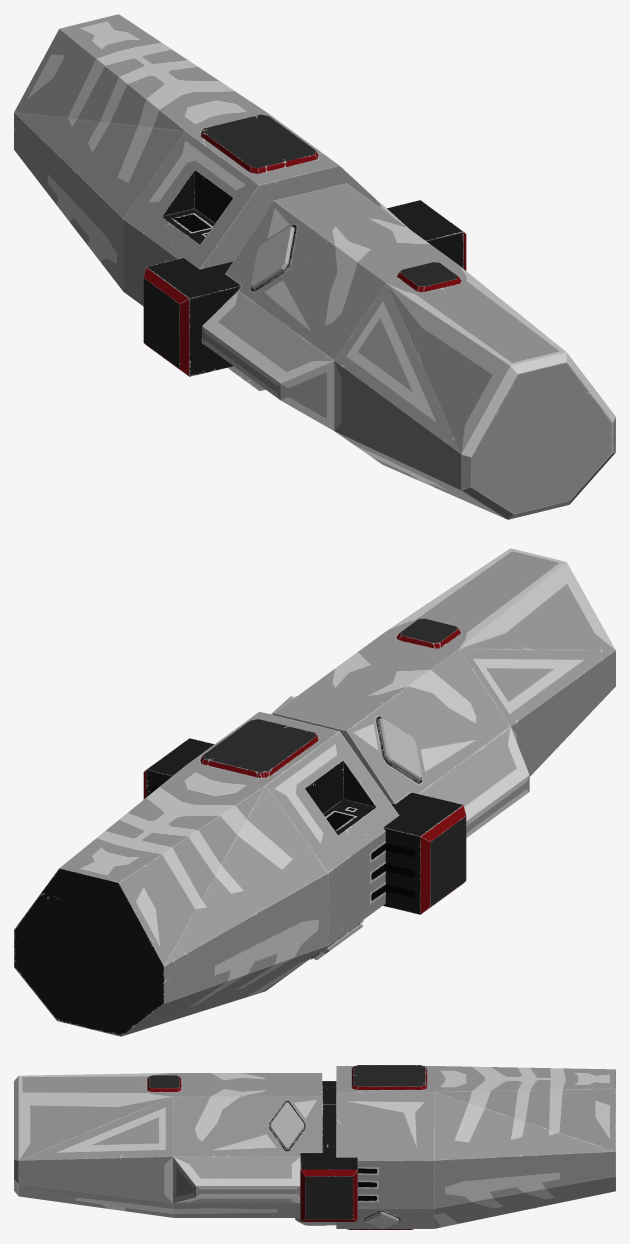
File: Moxella Final Collider.fbx
3 renders of one model, top to bottom at view 1: azimuth 30°, elevation 25°; view 2: azimuth 150°, elevation 25°; view 3: azimuth 270°, elevation 25°, orthographic. The views are drawn at different scales.
Parts seen in each view (by area): view 1: MoxBowCollider.002, MoxBowCollider.001, MoxSternCollider.006, MoxSternCollider.007, MoxBowCollider, MoxBowCollider.005, MoxSternCollider.009, MoxSternCollider, MoxSternCollider.001, MoxSternCollider.004, MoxSternCollider.002, MoxSternCollider.003 (+3 smaller); view 2: MoxSternCollider.006, MoxBowCollider.002, MoxSternCollider.007, MoxBowCollider.001, MoxBowCollider, MoxBowCollider.005, MoxSternCollider.009, MoxSternCollider.005, MoxSternCollider.002, MoxSternCollider.003, MoxSternCollider.001, MoxSternCollider.010 (+4 smaller); view 3: MoxBowCollider.002, MoxSternCollider.007, MoxSternCollider.006, MoxBowCollider.001, MoxSternCollider, MoxBowCollider.005, MoxSternCollider.005, MoxBowCollider, MoxSternCollider.010, MoxSternCollider.009, MoxBowCollider.007, MoxBowCollider.010 (+3 smaller).
Boxes of the visible parts, x1,y1,x2,y2 form: MoxBowCollider.002: (225, 183, 461, 490); MoxBowCollider.001: (385, 265, 615, 519); MoxSternCollider.006: (14, 14, 265, 131); MoxSternCollider.007: (14, 112, 185, 290); MoxBowCollider: (143, 200, 466, 376); MoxBowCollider.005: (202, 291, 334, 430); MoxSternCollider.009: (200, 114, 318, 174); MoxSternCollider: (186, 111, 381, 205); MoxSternCollider.001: (123, 131, 194, 219); MoxSternCollider.004: (199, 185, 269, 269); MoxSternCollider.002: (185, 131, 258, 223); MoxSternCollider.003: (124, 209, 214, 269); MoxSternCollider.006: (14, 765, 326, 1036); MoxBowCollider.002: (272, 631, 615, 803); MoxSternCollider.007: (164, 785, 328, 1003); MoxBowCollider.001: (386, 548, 615, 650); MoxBowCollider: (143, 738, 466, 914); MoxBowCollider.005: (419, 727, 529, 837); MoxSternCollider.009: (200, 719, 318, 778); MoxSternCollider.005: (328, 831, 385, 945); MoxSternCollider.002: (266, 731, 343, 813); MoxSternCollider.003: (323, 799, 398, 872); MoxSternCollider.001: (266, 785, 337, 872); MoxSternCollider.010: (122, 946, 327, 1036); MoxBowCollider.002: (18, 1073, 322, 1217); MoxSternCollider.007: (434, 1092, 615, 1208); MoxSternCollider.006: (434, 1066, 615, 1208); MoxBowCollider.001: (14, 1073, 172, 1217); MoxSternCollider: (336, 1066, 434, 1160); MoxBowCollider.005: (173, 1156, 300, 1203); MoxSternCollider.005: (336, 1160, 434, 1228); MoxBowCollider: (300, 1081, 357, 1221); MoxSternCollider.010: (434, 1191, 614, 1228); MoxSternCollider.009: (351, 1065, 427, 1089); MoxBowCollider.007: (270, 1102, 303, 1149); MoxBowCollider.010: (322, 1086, 336, 1146).
Bounding box in the file's own units: 470 × 1286 × 338.
